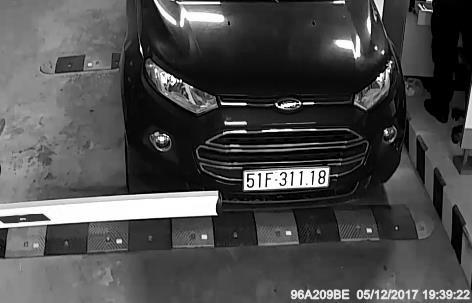License-plate: (239, 157, 335, 202)
